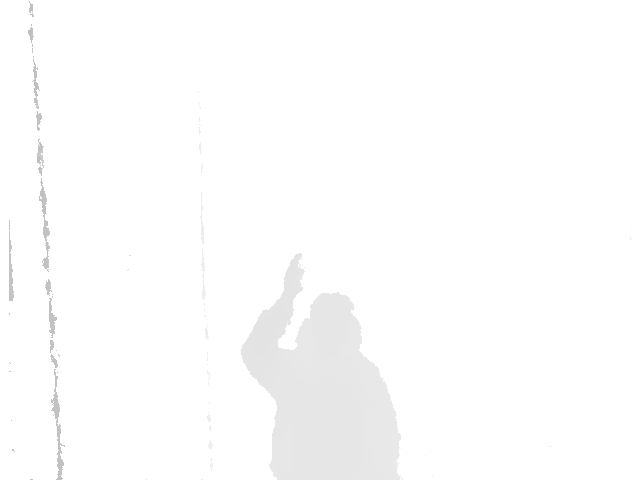hand: (281, 252, 311, 307)
head: (292, 293, 366, 356)
person: (240, 251, 407, 480)
